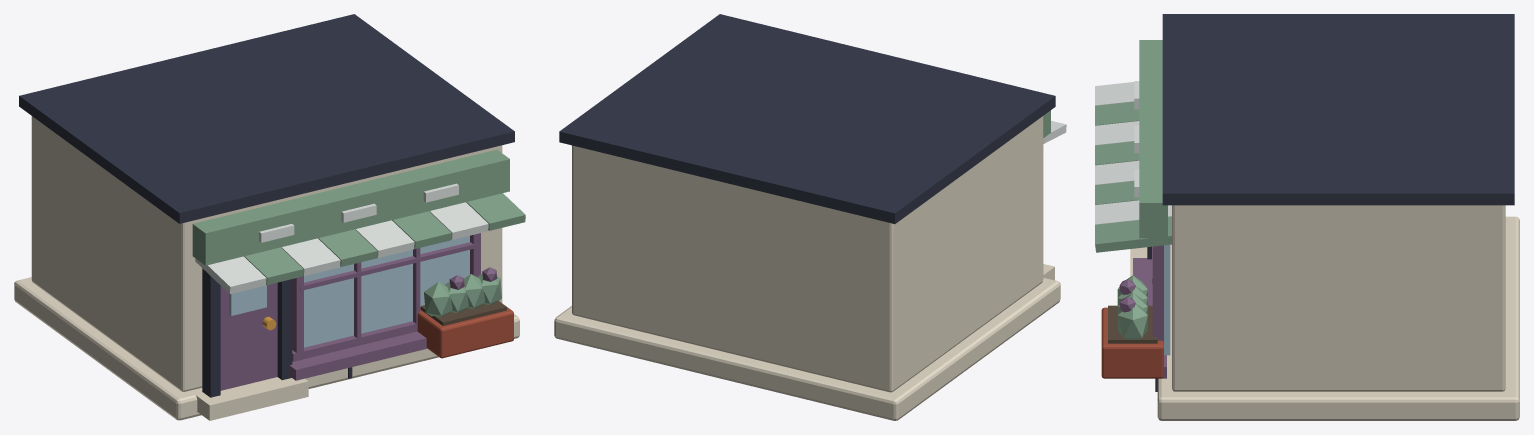
File: base_shop_gardens.glb
3 renders of one model, left to right at view 1: azimuth 30°, elevation 25°; view 2: azimuth 150°, elevation 25°; view 3: azimuth 270°, elevation 25°, orthographic. The views are drawn at different scales.
Parts seen in each view (by area): view 1: base_shop_gardens ink, base_shop_gardens mist, base_shop_gardens pine, base_shop_gardens patina, base_shop_gardens glass, base_shop_gardens plaster, base_shop_gardens clay, base_shop_gardens leaf, base_shop_gardens soil; view 2: base_shop_gardens mist, base_shop_gardens ink; view 3: base_shop_gardens mist, base_shop_gardens ink, base_shop_gardens pine, base_shop_gardens plaster, base_shop_gardens clay, base_shop_gardens patina, base_shop_gardens soil, base_shop_gardens glass, base_shop_gardens plum.
Boxes of the visible parts, x1=… form: base_shop_gardens ink: x1=19, y1=14, x2=514, y2=397; base_shop_gardens mist: x1=14, y1=116, x2=519, y2=420; base_shop_gardens pine: x1=192, y1=149, x2=525, y2=312; base_shop_gardens patina: x1=220, y1=233, x2=480, y2=390; base_shop_gardens glass: x1=229, y1=235, x2=469, y2=347; base_shop_gardens plaster: x1=195, y1=183, x2=488, y2=293; base_shop_gardens clay: x1=417, y1=301, x2=513, y2=358; base_shop_gardens leaf: x1=424, y1=274, x2=484, y2=316; base_shop_gardens soil: x1=420, y1=301, x2=506, y2=325; base_shop_gardens mist: x1=554, y1=116, x2=1060, y2=420; base_shop_gardens ink: x1=559, y1=14, x2=1055, y2=223; base_shop_gardens mist: x1=1130, y1=205, x2=1519, y2=420; base_shop_gardens ink: x1=1147, y1=14, x2=1514, y2=391; base_shop_gardens pine: x1=1095, y1=40, x2=1171, y2=339; base_shop_gardens plaster: x1=1095, y1=81, x2=1171, y2=224; base_shop_gardens clay: x1=1101, y1=307, x2=1163, y2=378; base_shop_gardens patina: x1=1133, y1=245, x2=1166, y2=378; base_shop_gardens soil: x1=1108, y1=305, x2=1157, y2=343; base_shop_gardens glass: x1=1164, y1=244, x2=1170, y2=355; base_shop_gardens plum: x1=1119, y1=279, x2=1135, y2=312.
Size of the model in its own units: 0.835 by 0.48 by 0.815.
